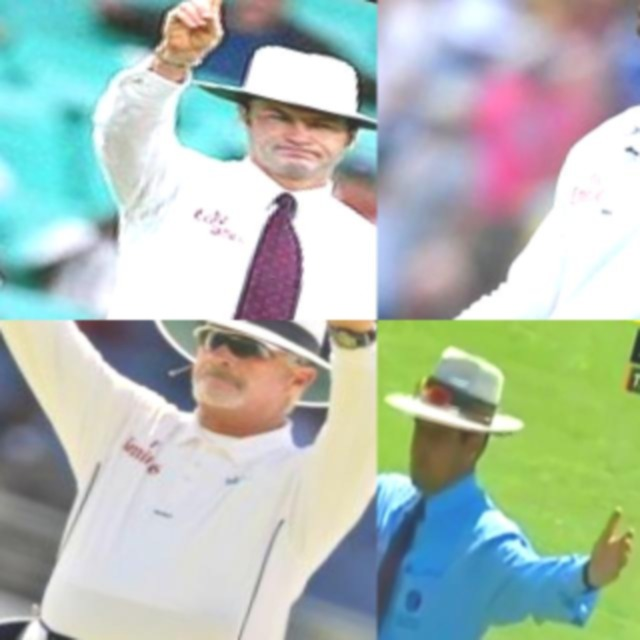No_Action: (377, 0, 640, 320)
Out: (0, 0, 377, 320)
Six: (0, 320, 377, 640)
Wide: (377, 320, 640, 640)
